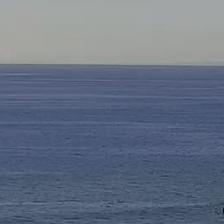surfer: (221, 207, 224, 213)
